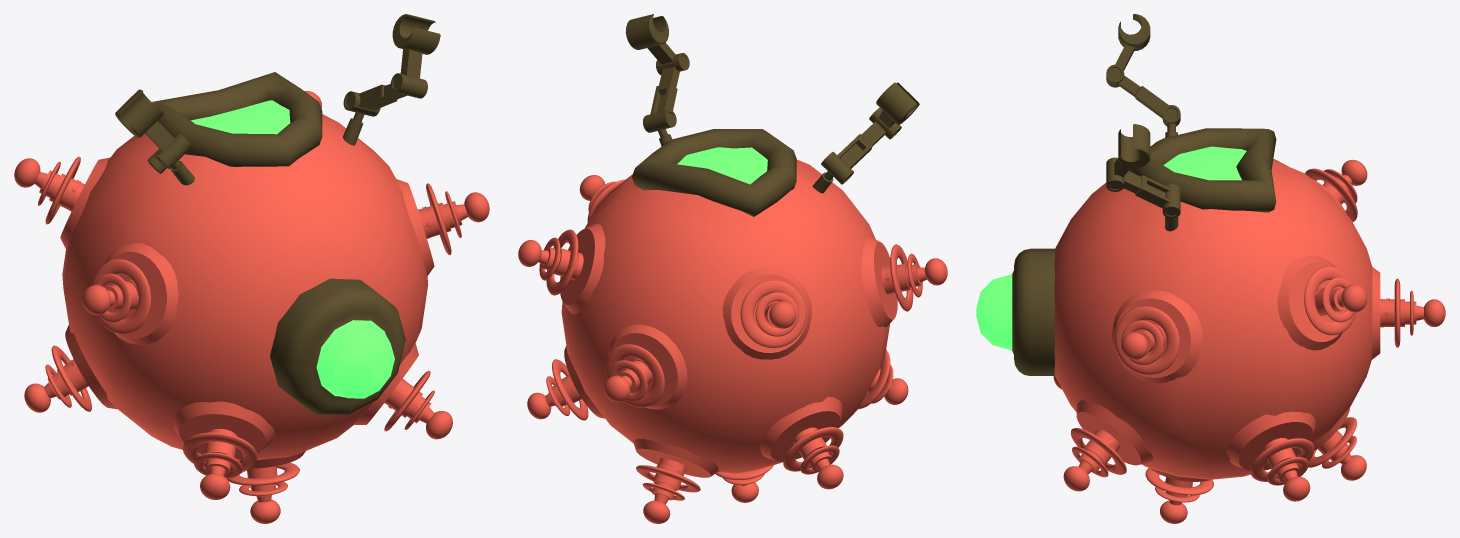
The model's file is Virus_Bot.fbx.
3 renders of one model, left to right at view 1: azimuth 30°, elevation 25°; view 2: azimuth 150°, elevation 25°; view 3: azimuth 270°, elevation 25°, orthographic. The views are drawn at different scales.
Visible parts, largest first — view 1: VirusBot; view 2: VirusBot; view 3: VirusBot.
Part boxes in pixels (bbox=[...]): VirusBot: bbox=[14, 14, 489, 523]; VirusBot: bbox=[518, 14, 947, 523]; VirusBot: bbox=[976, 14, 1445, 523].
Bounding box in the file's own units: 181 × 211 × 198.
